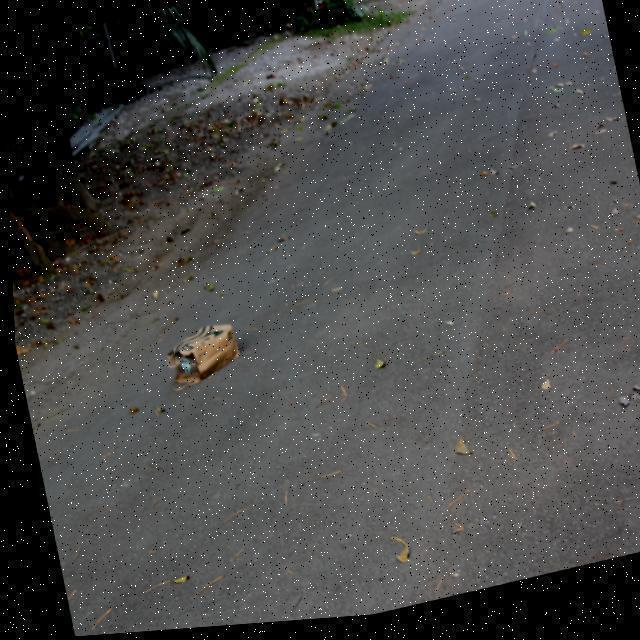Paper_Bag: (157, 322, 241, 395)
